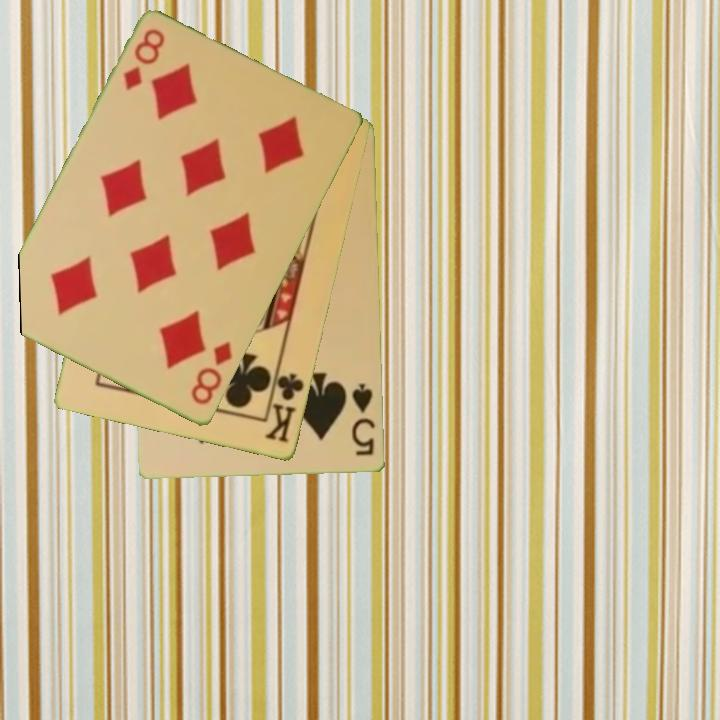5s: (348, 380, 378, 460)
8d: (187, 338, 236, 409), (120, 25, 168, 94)
Kc: (262, 363, 307, 447)
